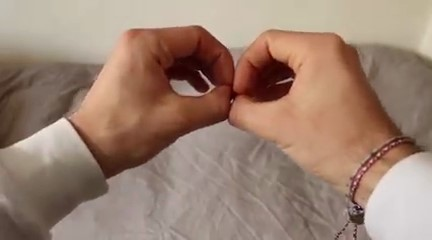B: (70, 15, 394, 201)
